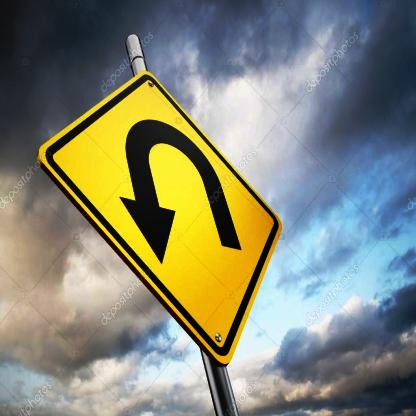U-turn: (40, 64, 285, 369)
